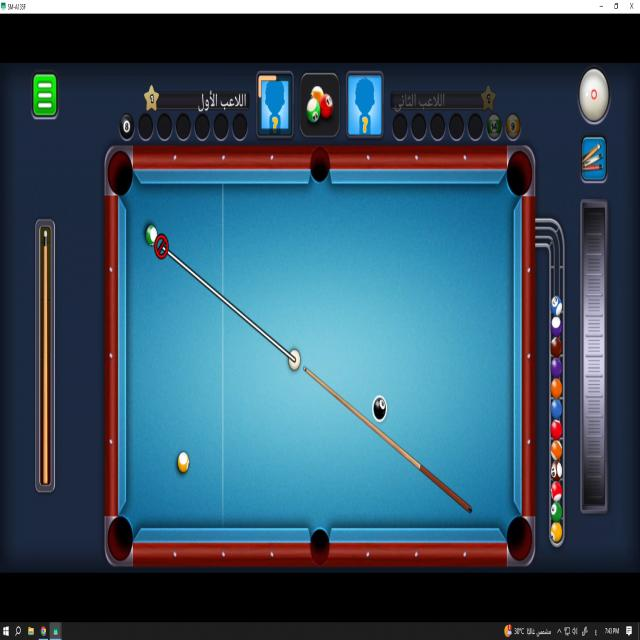object_ball: (372, 396, 388, 422), (146, 225, 157, 245), (178, 452, 189, 472)
white_cue_ball: (289, 350, 300, 370)
